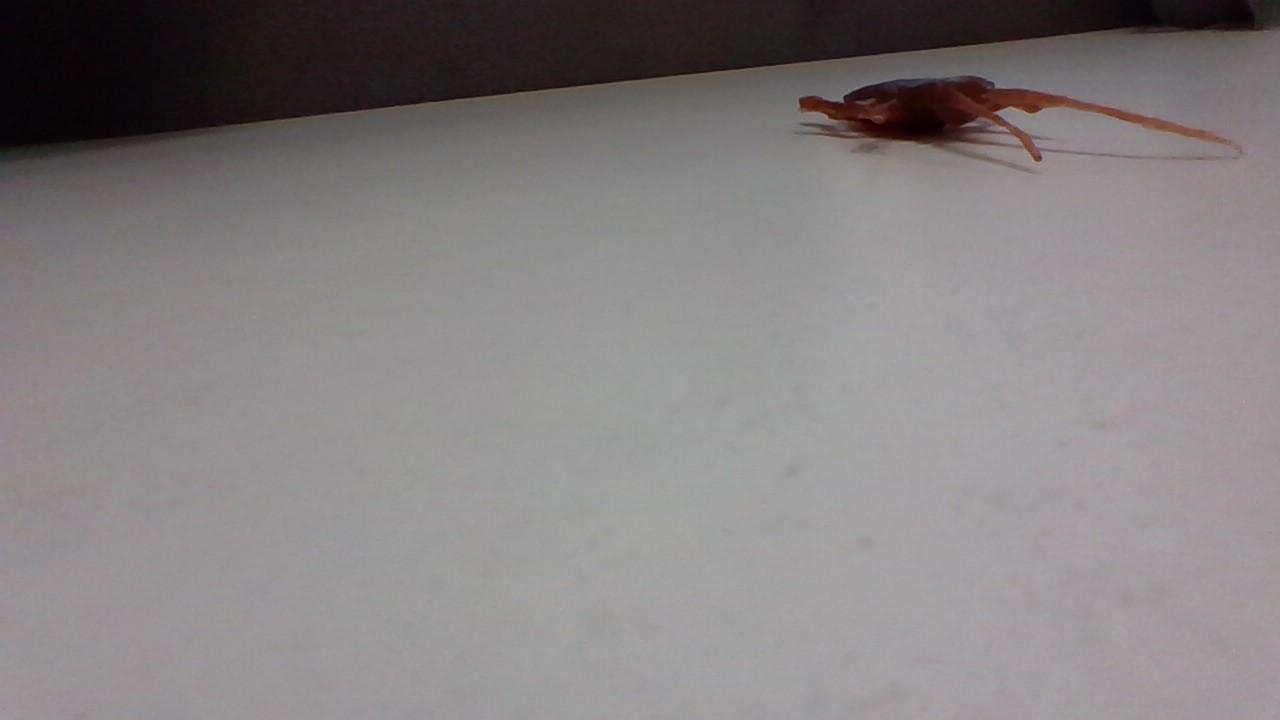cockroach: (790, 60, 1231, 176)
